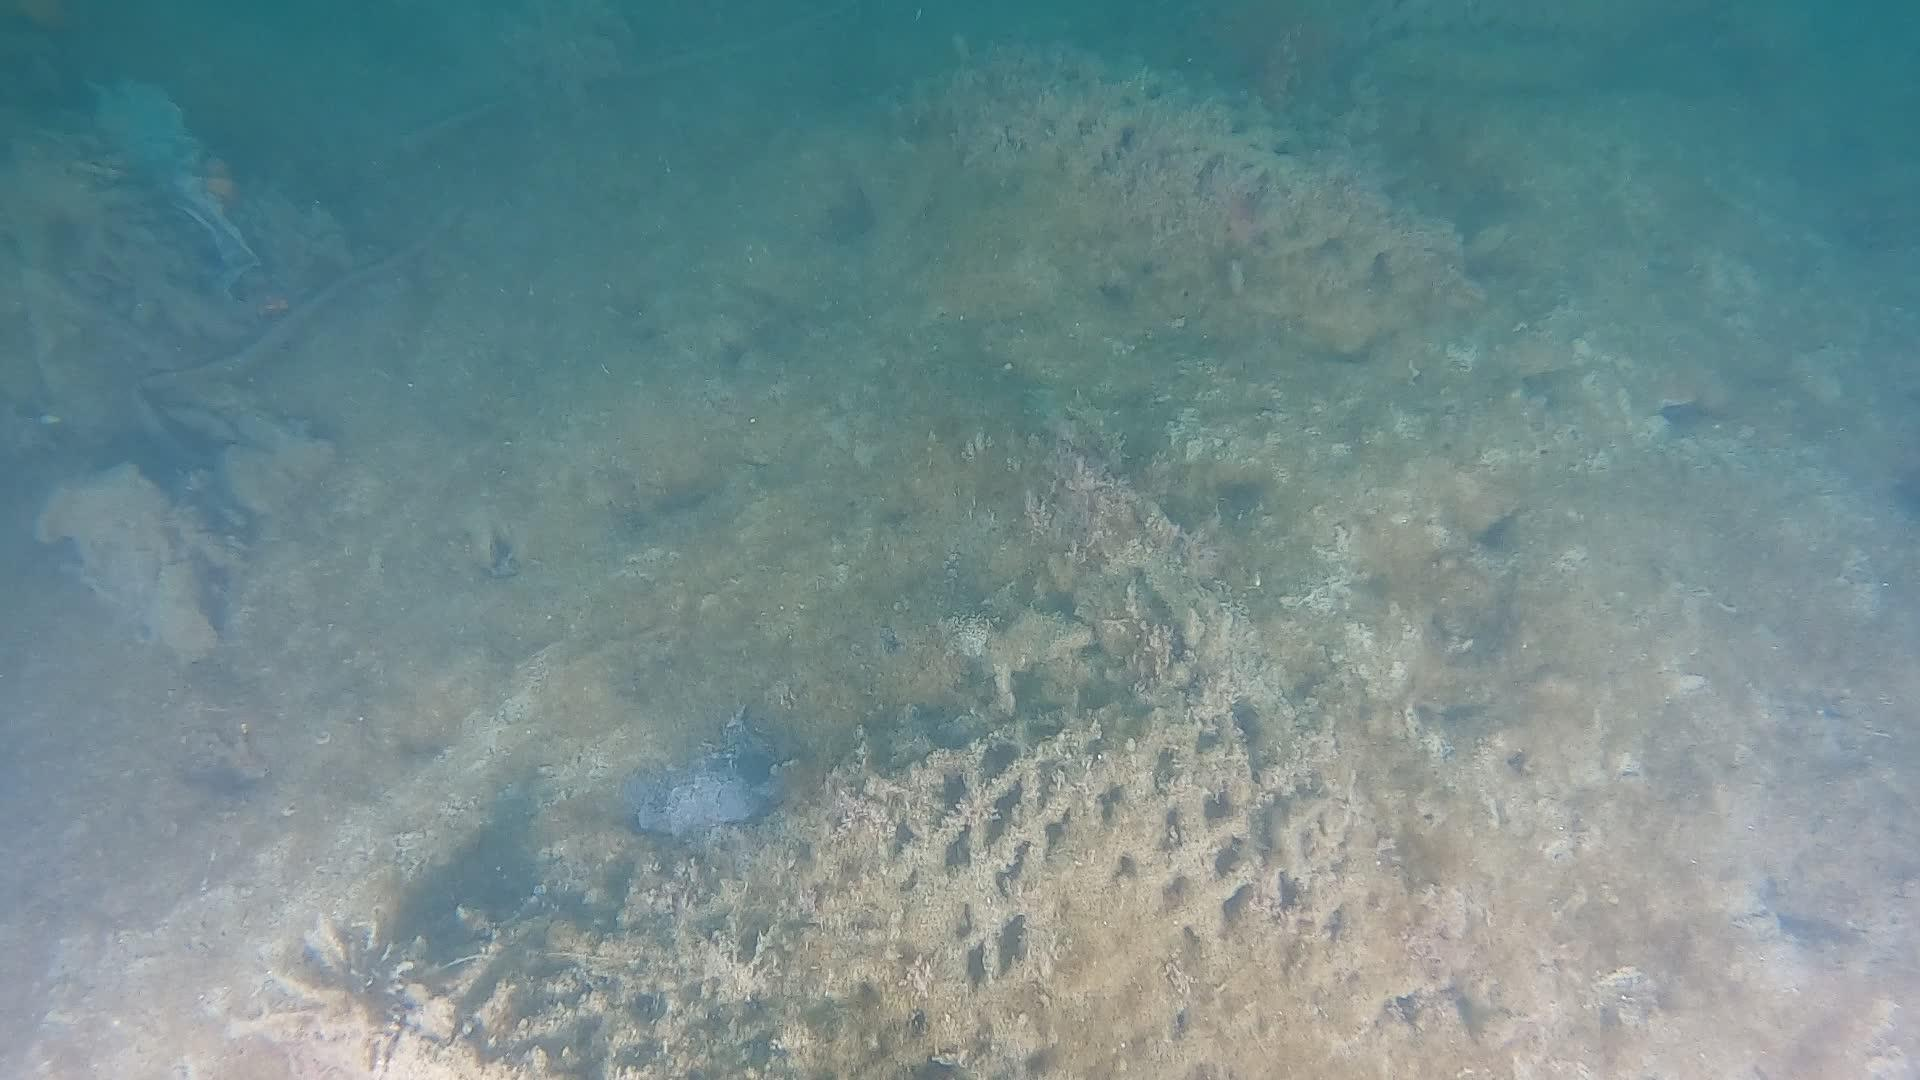fish net: (684, 37, 1487, 1080)
